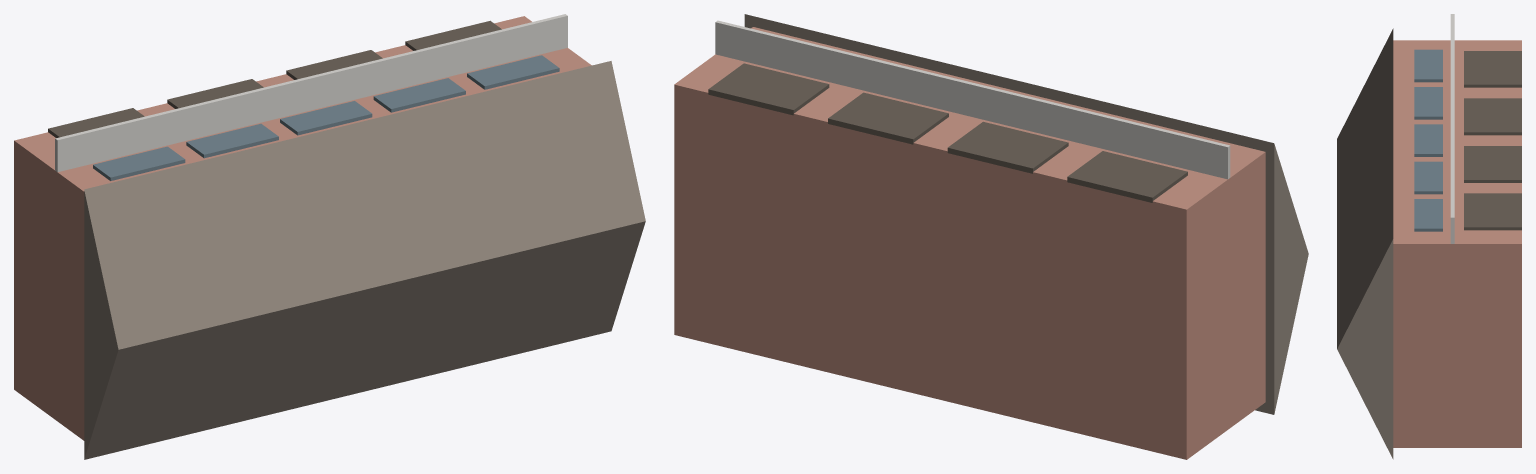
Rendered from r-117-donahue-rowing-center.glb.
The picture shows the model from 3 angles, left to right: view 1: azimuth 30°, elevation 25°; view 2: azimuth 150°, elevation 25°; view 3: azimuth 270°, elevation 25°; orthographic projection. The views are drawn at different scales.
Parts seen in each view (by area): view 1: roof, walls, balcony, upper-windows, bay-doors; view 2: walls, balcony, bay-doors, roof; view 3: walls, roof, bay-doors, upper-windows, balcony.
Part boxes in pixels (left/top/right/bottom): roof: left=84, top=61, right=645, bottom=459; walls: left=14, top=16, right=591, bottom=440; balcony: left=55, top=14, right=567, bottom=172; upper-windows: left=93, top=55, right=559, bottom=180; bay-doors: left=48, top=20, right=501, bottom=137; walls: left=674, top=27, right=1265, bottom=459; balcony: left=715, top=20, right=1230, bottom=179; bay-doors: left=708, top=63, right=1187, bottom=202; roof: left=744, top=14, right=1308, bottom=414; walls: left=1393, top=40, right=1521, bottom=447; roof: left=1337, top=28, right=1393, bottom=459; bay-doors: left=1464, top=51, right=1521, bottom=230; upper-windows: left=1414, top=49, right=1442, bottom=231; balcony: left=1450, top=14, right=1454, bottom=243.
Bounding box in the file's own units: 31000 × 16398 × 11500.
